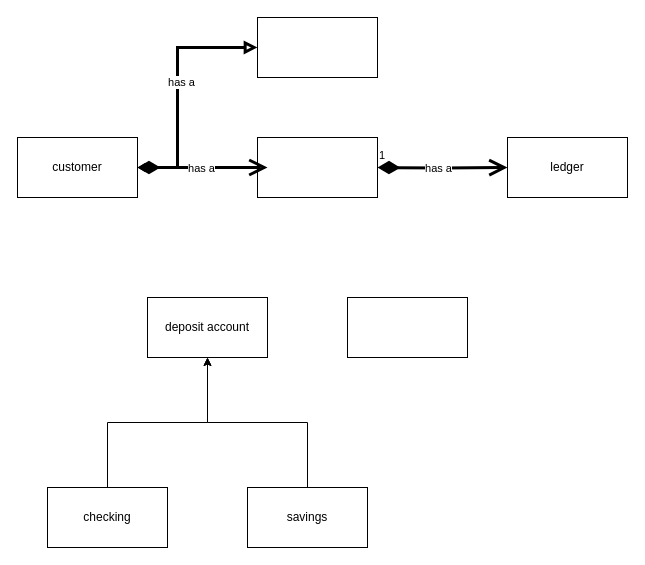
The diagram is 645 pixels wide and 565 high, and some of its shapes have lost their labels. Here are the shapes that lost their labels. From the top down, the box of each, then its label:
(256, 16, 378, 78): address
(256, 136, 378, 198): account service
